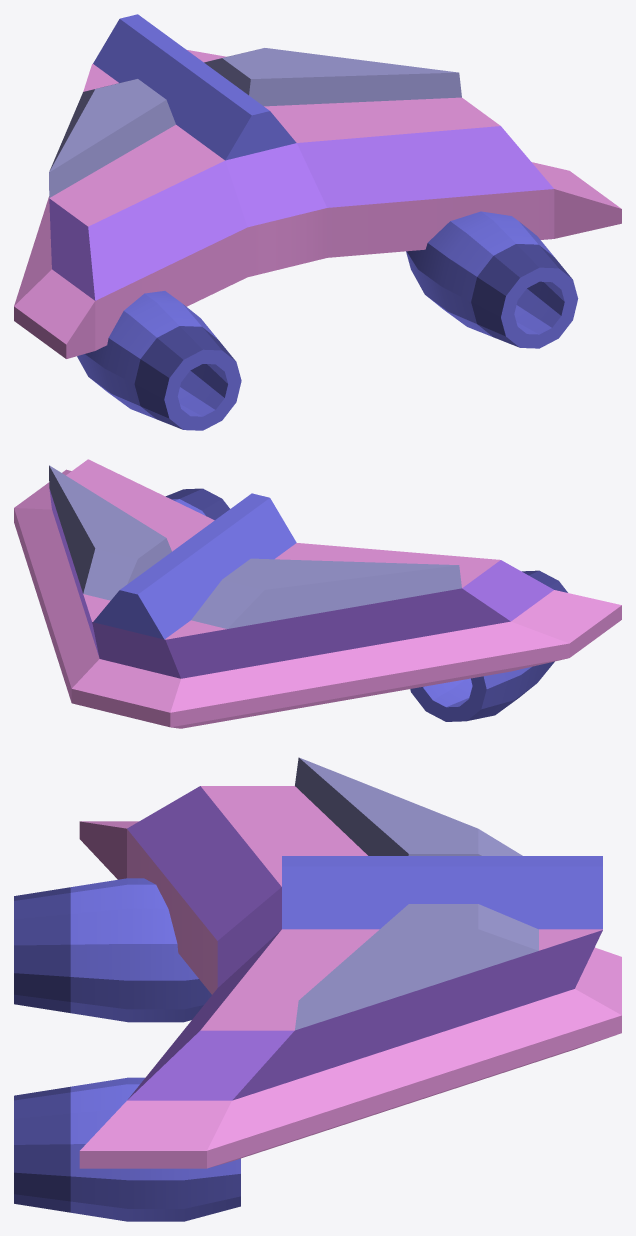
The model's file is MotherShip_V2.fbx.
3 views of the same model, one above another, from view 1: azimuth 30°, elevation 25°; view 2: azimuth 150°, elevation 25°; view 3: azimuth 270°, elevation 25° (orthographic). The views are drawn at different scales.
Parts seen in each view (by area): view 1: Body, Jet_R, Jet_L; view 2: Body, Jet_L, Jet_R; view 3: Body, Jet_L, Jet_R.
Boxes of the visible parts, <box> form: Body: <box>14,14,621,358</box>; Jet_R: <box>406,211,578,348</box>; Jet_L: <box>77,291,241,430</box>; Body: <box>14,459,621,728</box>; Jet_L: <box>410,570,567,721</box>; Jet_R: <box>165,488,229,520</box>; Body: <box>79,757,621,1168</box>; Jet_L: <box>14,878,211,1022</box>; Jet_R: <box>14,1077,240,1221</box>.
Bounding box in the file's own units: 50.04 × 18 × 39.04.
